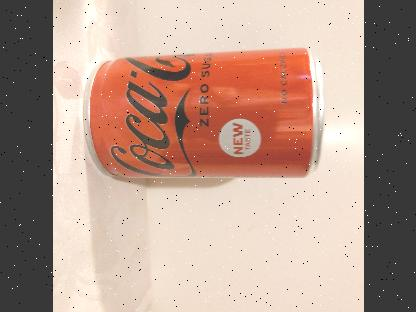Can: (82, 47, 326, 181)
